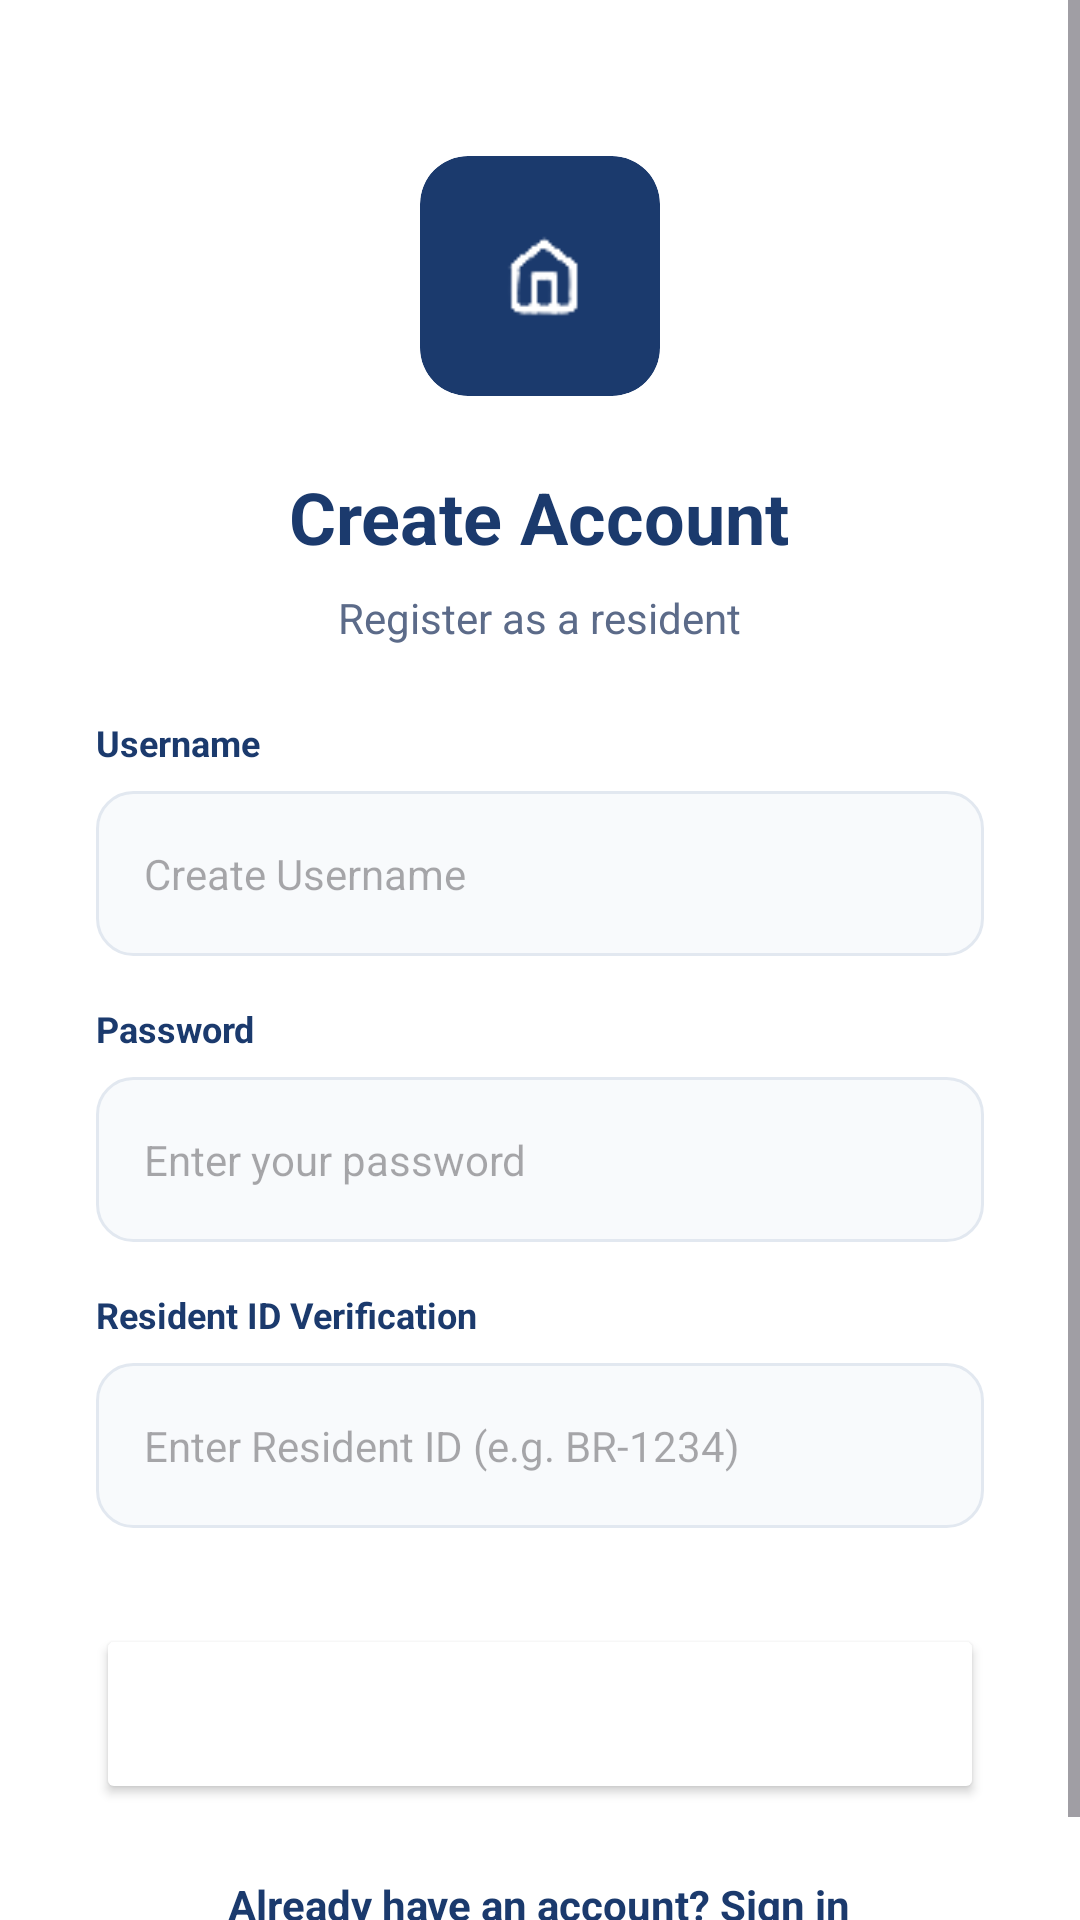

Named icons in this screenshot (1080w x 1920h) and their centers, (x=x, y=y):
home: (x=543, y=276)
